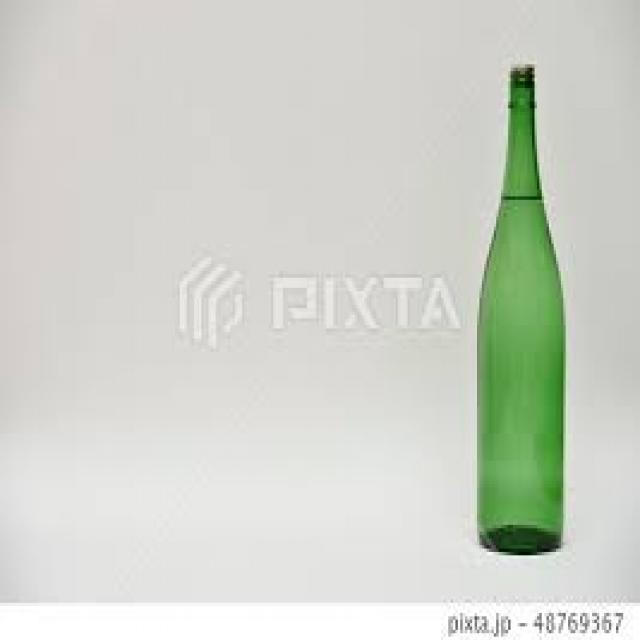Glass-Non-Biodegradable but Recyclable-: (475, 68, 566, 556)
